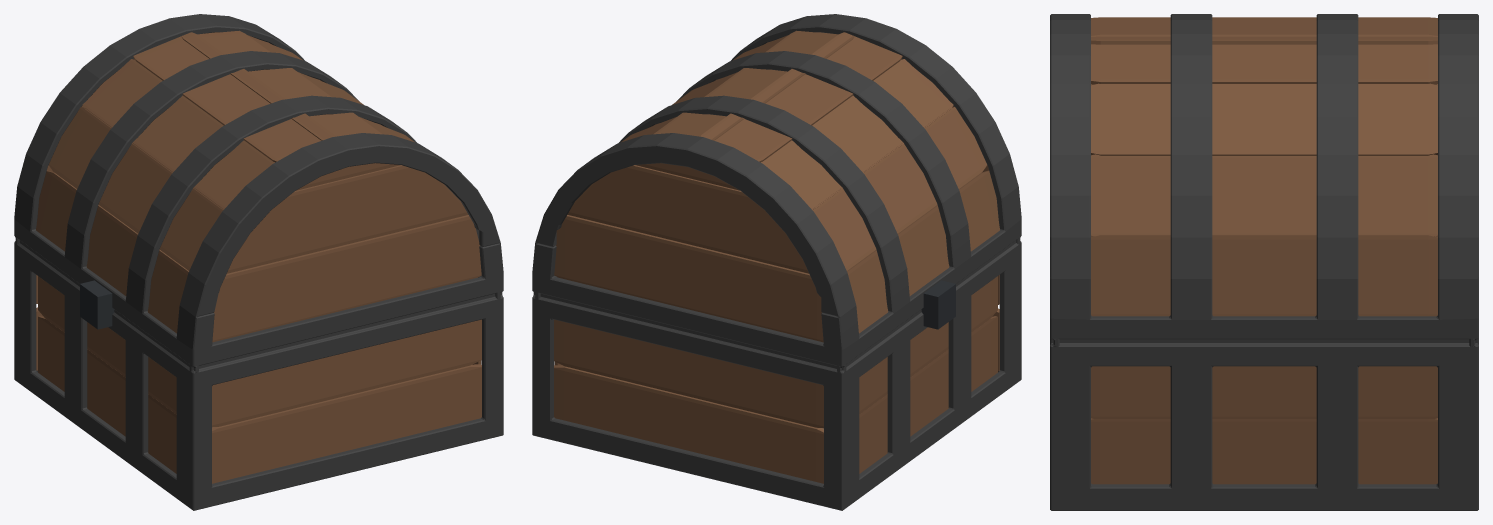
The model's file is Goldkiste.fbx.
3 views of the same model, side by side, from view 1: azimuth 30°, elevation 25°; view 2: azimuth 150°, elevation 25°; view 3: azimuth 270°, elevation 25° (orthographic). The views are drawn at different scales.
Visible parts, largest first — view 1: Cylinder.001, Cube.022, Cube.015, Cube.021, Cube.016, Cube.006, Cube.007, Cube.005, Cube.012, Cube, Cube.008, Cube.002 (+3 smaller); view 2: Cylinder.001, Cube.018, Cube.014, Cube.019, Cube.013, Cube.006, Cube.007, Cube.005, Cube.012, Cube, Cube.008, Cube.002 (+3 smaller); view 3: Cylinder.001, Cube.009, Cube.010, Cube.011, Cube.004, Cube.003, Cube.008, Cube.012.
Boxes of the visible parts, <box> form: Cylinder.001: <box>14,14,503,510</box>; Cube.022: <box>212,215,481,342</box>; Cube.015: <box>212,364,481,483</box>; Cube.021: <box>226,165,468,273</box>; Cube.016: <box>212,319,481,426</box>; Cube.006: <box>49,107,223,270</box>; Cube.007: <box>82,59,274,209</box>; Cube.005: <box>36,170,188,333</box>; Cube.012: <box>133,32,335,162</box>; Cube: <box>38,316,176,473</box>; Cube.008: <box>181,30,382,140</box>; Cube.002: <box>38,276,176,414</box>; Cylinder.001: <box>532,14,1021,510</box>; Cube.018: <box>554,215,823,342</box>; Cube.014: <box>554,365,823,483</box>; Cube.019: <box>567,165,808,273</box>; Cube.013: <box>554,319,823,427</box>; Cube.006: <box>812,107,986,270</box>; Cube.007: <box>761,59,953,209</box>; Cube.005: <box>847,170,999,333</box>; Cube.012: <box>700,32,902,162</box>; Cube: <box>859,316,997,473</box>; Cube.008: <box>653,30,854,140</box>; Cube.002: <box>859,276,997,414</box>; Cylinder.001: <box>1050,14,1478,510</box>; Cube.009: <box>1091,235,1437,316</box>; Cube.010: <box>1091,154,1437,236</box>; Cube.011: <box>1091,83,1437,155</box>; Cube.004: <box>1091,418,1437,484</box>; Cube.003: <box>1091,366,1437,418</box>; Cube.008: <box>1091,34,1437,84</box>; Cube.012: <box>1091,17,1437,44</box>.
Bounding box in the file's own units: 209 × 199 × 200.
